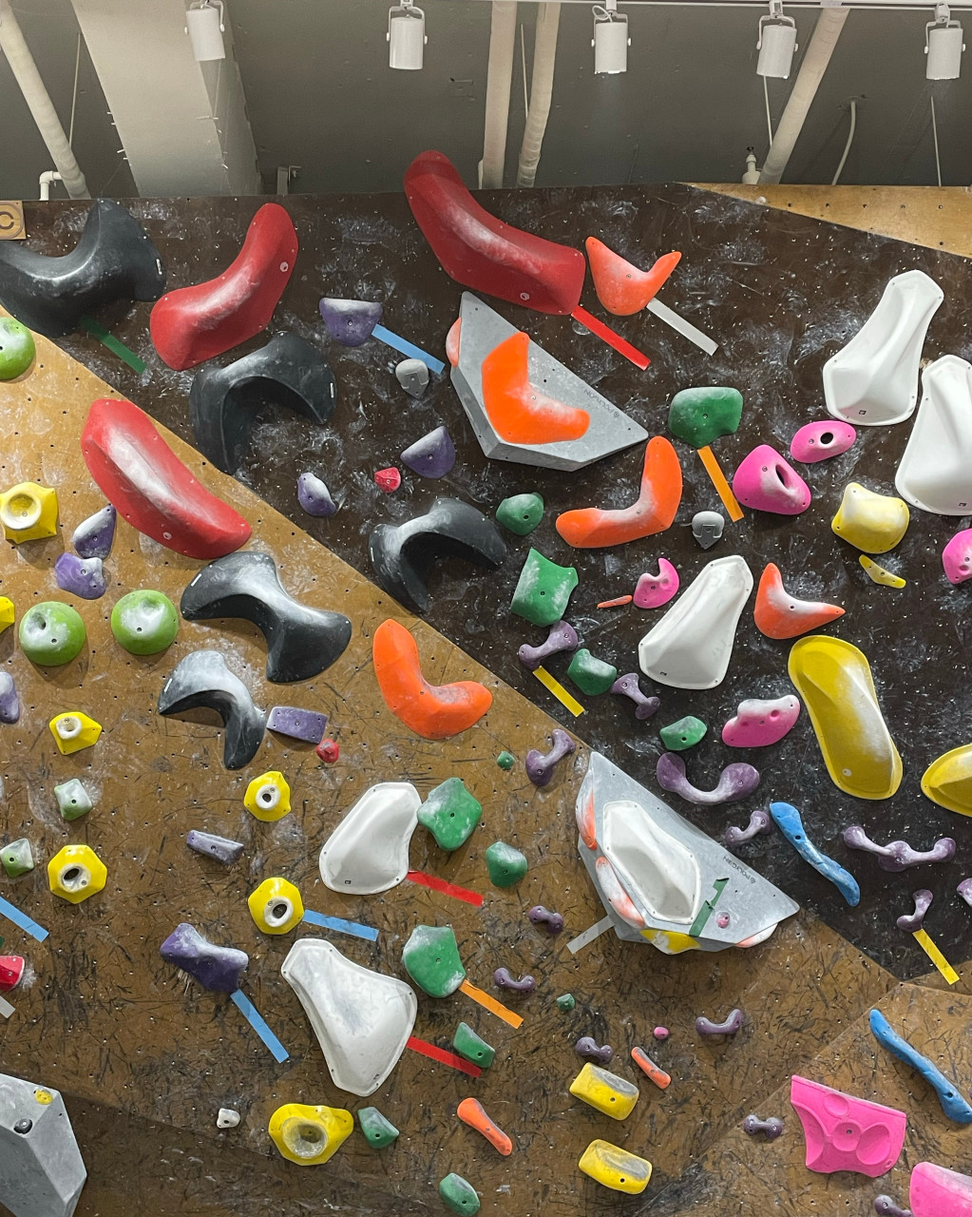hold: (405, 151, 585, 314), (81, 397, 248, 560), (149, 204, 295, 370), (180, 550, 351, 683), (0, 201, 162, 341), (281, 937, 415, 1096), (189, 336, 334, 478), (791, 636, 903, 799), (826, 271, 943, 423), (372, 498, 505, 614), (640, 556, 753, 689), (557, 437, 682, 548), (373, 621, 491, 738), (159, 652, 265, 770), (603, 801, 700, 924), (898, 357, 971, 517), (484, 333, 589, 443), (872, 1010, 971, 1125), (320, 782, 421, 894), (793, 1077, 907, 1175), (770, 802, 860, 903), (585, 238, 681, 316), (756, 565, 846, 639), (161, 924, 245, 992), (658, 753, 761, 805), (835, 484, 910, 553), (734, 446, 811, 513), (270, 1105, 353, 1164), (845, 828, 956, 872), (512, 550, 576, 626), (420, 779, 481, 850), (111, 590, 177, 655), (670, 388, 743, 446), (17, 603, 83, 666), (404, 927, 463, 997), (724, 697, 800, 745), (571, 1065, 638, 1119), (581, 1142, 652, 1192), (597, 854, 645, 926), (924, 745, 971, 815), (47, 845, 104, 902), (0, 483, 55, 541), (913, 1164, 971, 1216), (458, 1099, 512, 1154), (526, 727, 576, 785), (320, 299, 380, 346), (792, 419, 859, 461), (249, 879, 301, 933), (401, 427, 454, 477), (521, 624, 581, 666), (53, 553, 105, 599), (610, 674, 659, 719), (70, 507, 114, 557), (568, 651, 619, 694), (636, 559, 679, 608), (269, 707, 326, 743), (245, 773, 289, 819), (0, 316, 31, 380), (49, 713, 98, 753), (486, 842, 527, 888), (497, 495, 544, 534), (575, 767, 596, 849), (452, 1026, 493, 1066), (723, 811, 769, 846), (297, 473, 335, 515), (441, 1175, 479, 1216), (641, 929, 700, 955), (187, 832, 238, 862), (358, 1109, 397, 1148), (54, 780, 90, 821), (633, 1049, 671, 1087), (662, 718, 706, 750), (863, 556, 905, 589), (945, 530, 971, 583), (698, 1010, 743, 1038), (395, 360, 429, 396), (900, 892, 933, 929), (694, 513, 725, 549), (0, 841, 31, 877), (736, 923, 777, 948), (527, 907, 563, 933), (746, 1117, 785, 1140), (495, 970, 535, 991), (0, 672, 16, 723), (0, 956, 21, 989), (447, 319, 461, 366), (877, 1196, 907, 1216), (579, 1039, 610, 1058), (376, 468, 399, 490), (599, 595, 631, 608), (317, 742, 337, 762), (0, 597, 12, 629), (217, 1110, 238, 1128), (11, 1119, 29, 1134), (34, 1089, 52, 1103), (961, 879, 971, 902), (498, 753, 513, 768), (559, 995, 574, 1010), (717, 914, 730, 926), (655, 1028, 669, 1038)
volume: (575, 752, 803, 953), (449, 290, 652, 472), (0, 1074, 83, 1216)
